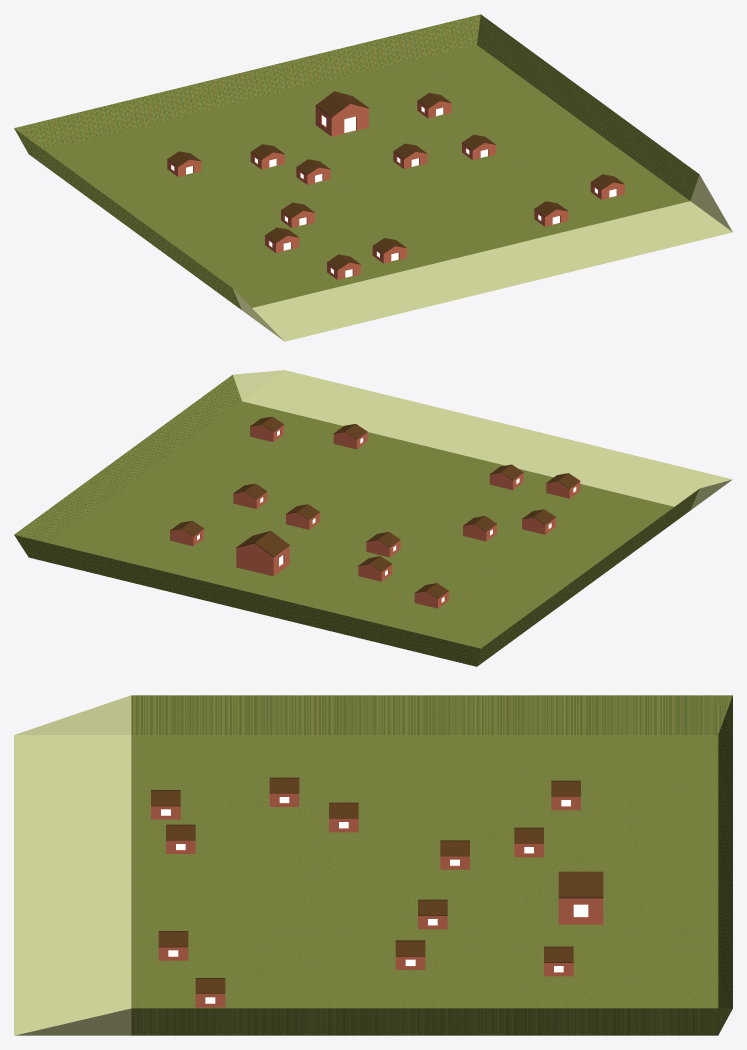
File: island-test.glb
3 views of the same model, one above another, from view 1: azimuth 30°, elevation 25°; view 2: azimuth 150°, elevation 25°; view 3: azimuth 270°, elevation 25° (orthographic). The views are drawn at different scales.
Parts seen in each view (by area): view 1: island-test-col, house-col.011, house-col.004, house-col.012, house-col.002, house-col.009, house-col.010, house-col.003, house-col.007, house-col.008, house-col.001, house-col.013 (+2 smaller); view 2: island-test-col, house-col.011, house-col.009, house-col.012, house-col.008, house-col.001, house-col.002, house-col.005, house-col.013, house-col.006, house-col.003, house-col.004 (+2 smaller); view 3: island-test-col, house-col.011, house-col.001, house-col.002, house-col.003, house-col.004, house-col.005, house-col.006, house-col.009, house-col.010, house-col.007, house-col.008 (+2 smaller).
Boxes of the visible parts, x1,y1,x2,y2 form: island-test-col: (14, 14, 732, 341); house-col.011: (315, 91, 368, 136); house-col.004: (393, 143, 427, 168); house-col.012: (296, 159, 330, 184); house-col.002: (250, 144, 284, 169); house-col.009: (534, 201, 568, 226); house-col.010: (590, 174, 624, 199); house-col.003: (417, 93, 451, 118); house-col.007: (265, 227, 299, 252); house-col.008: (372, 238, 406, 263); house-col.001: (167, 151, 201, 176); house-col.013: (327, 254, 360, 279); island-test-col: (14, 370, 732, 666); house-col.011: (236, 531, 289, 576); house-col.009: (333, 424, 367, 449); house-col.012: (366, 532, 400, 557); house-col.008: (489, 464, 523, 489); house-col.001: (414, 583, 448, 608); house-col.002: (358, 556, 392, 581); house-col.005: (233, 483, 267, 508); house-col.013: (546, 473, 580, 498); house-col.006: (463, 516, 496, 541); house-col.003: (170, 520, 203, 546); house-col.004: (286, 504, 319, 529); island-test-col: (14, 695, 732, 1035); house-col.011: (558, 871, 603, 924); house-col.001: (551, 780, 580, 810); house-col.002: (514, 827, 543, 857); house-col.003: (544, 946, 573, 976); house-col.004: (418, 899, 447, 929); house-col.005: (395, 940, 425, 969); house-col.006: (329, 802, 358, 832); house-col.009: (158, 931, 188, 960); house-col.010: (195, 978, 225, 1007); house-col.007: (269, 777, 299, 806); house-col.008: (166, 824, 195, 853).
Bounding box in the file's own units: 100 × 6 × 97.
6 materials, 1 textured.
